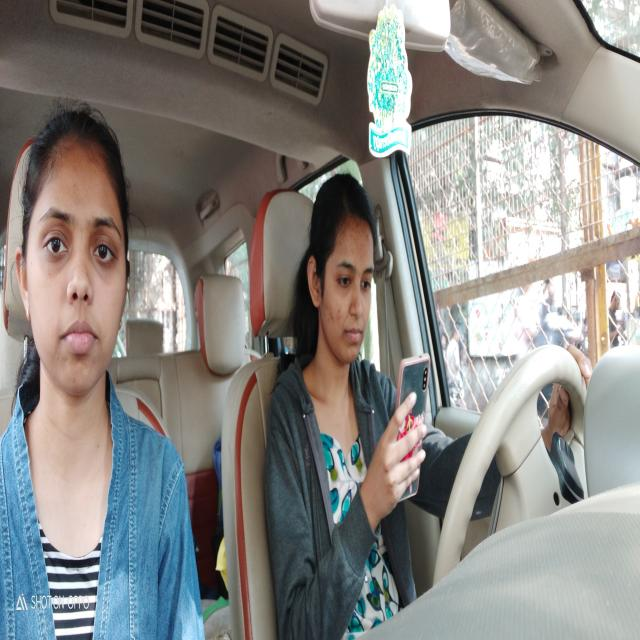mobile: (394, 347, 431, 506)
person: (16, 99, 131, 425), (302, 168, 382, 382)
